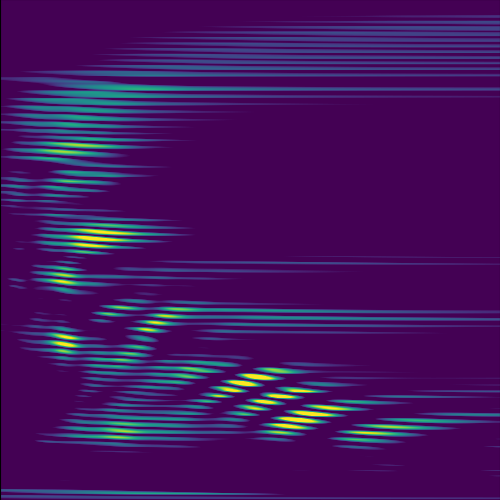semblance: (266, 397, 352, 438), (206, 366, 291, 404), (238, 382, 324, 416), (60, 222, 142, 253), (36, 134, 111, 160), (344, 419, 423, 443), (137, 301, 181, 341)
